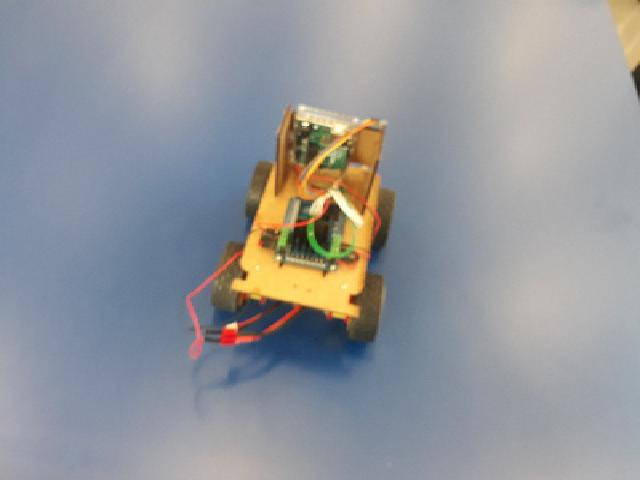Robot: (210, 103, 394, 342)
